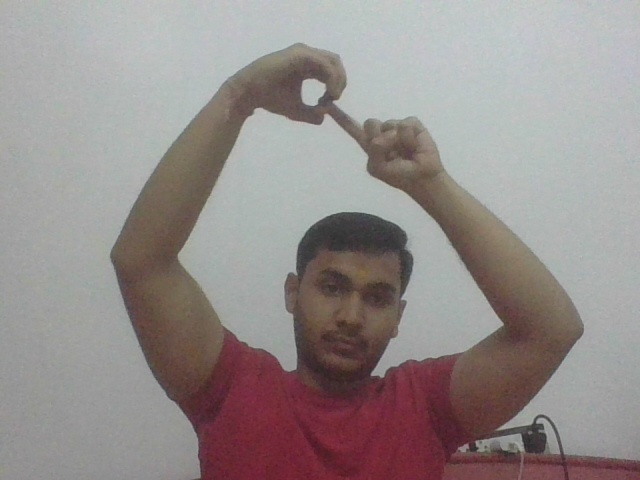Q: (276, 36, 407, 183)
